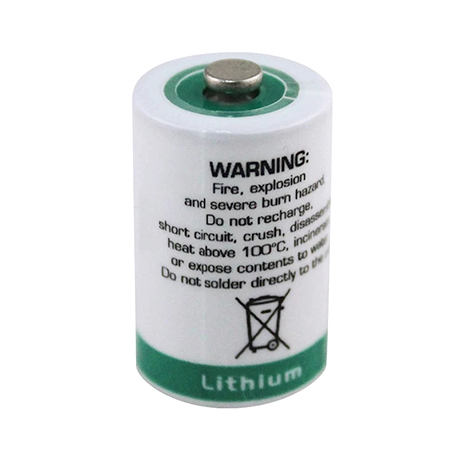Battery: (127, 47, 334, 410)
